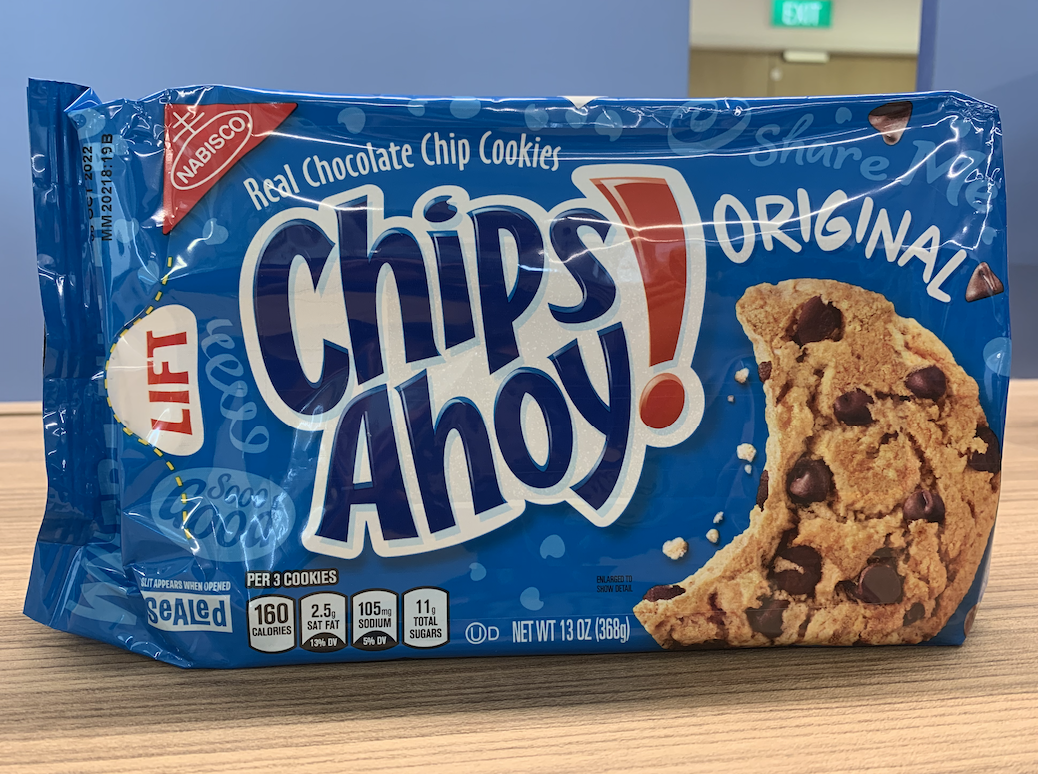cookies_300g-399g: (72, 118, 971, 644)
